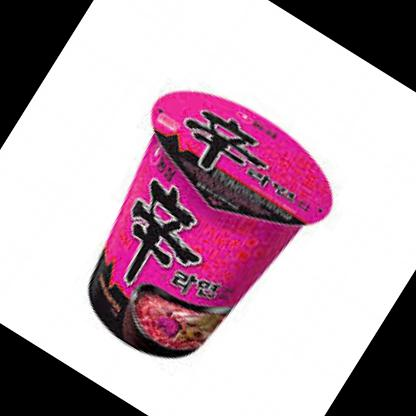Ramen: (41, 65, 354, 401)
